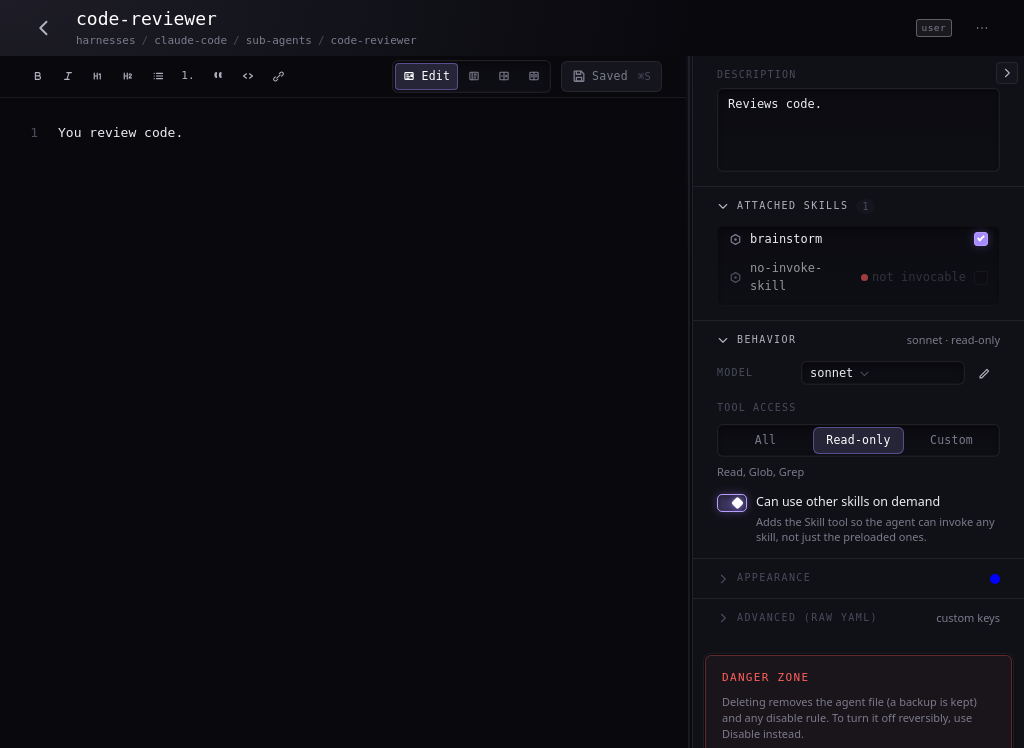
Scenario: Sub-agent editor › surfaces backend ok:false errors (e.g. non-invocable attached skill)
Note: Make the form dirty so Save is enabled.
Type " More." into the text box showing "Reviews code." at x=858, y=130, box x1=717 y1=88 x2=1000 y2=172
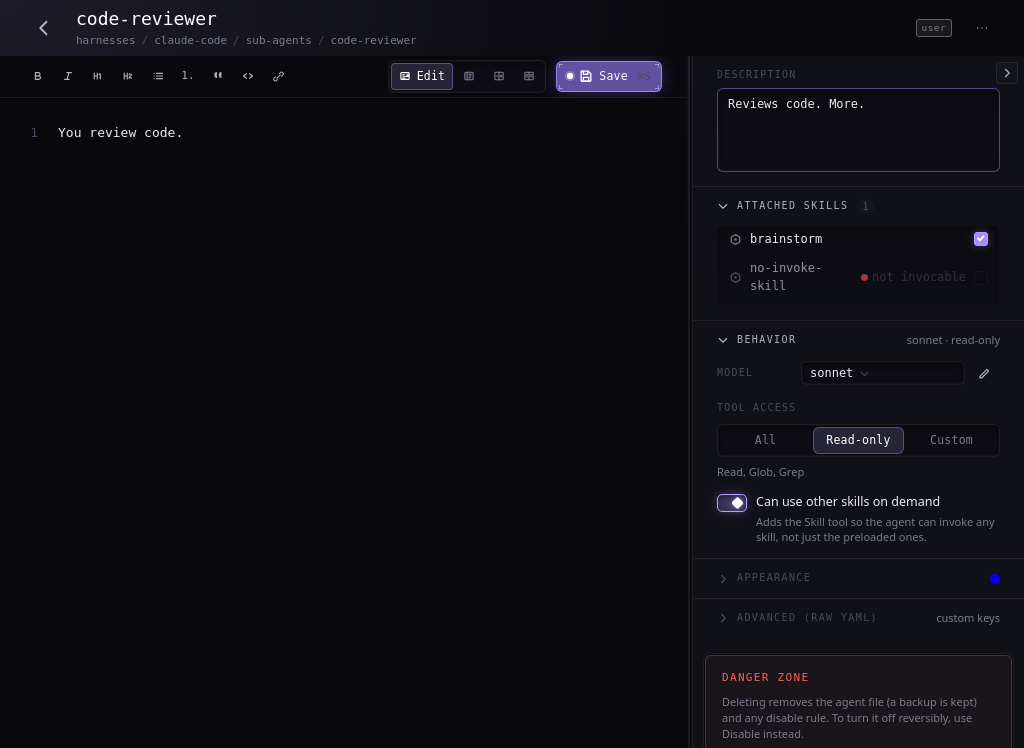
Click the button "Save ⌘S" at x=609, y=76, box x1=556 y1=61 x2=662 y2=92
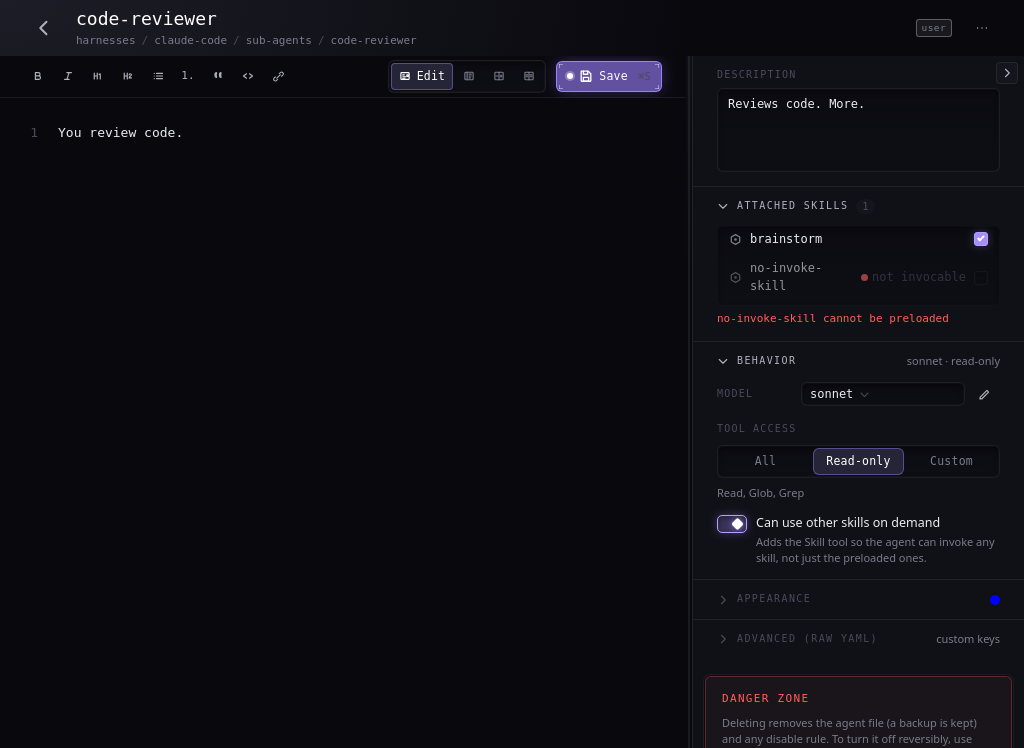
Result: the text "no-invoke-skill cannot be preloaded" is shown at x1=717 y1=312 x2=949 y2=325
